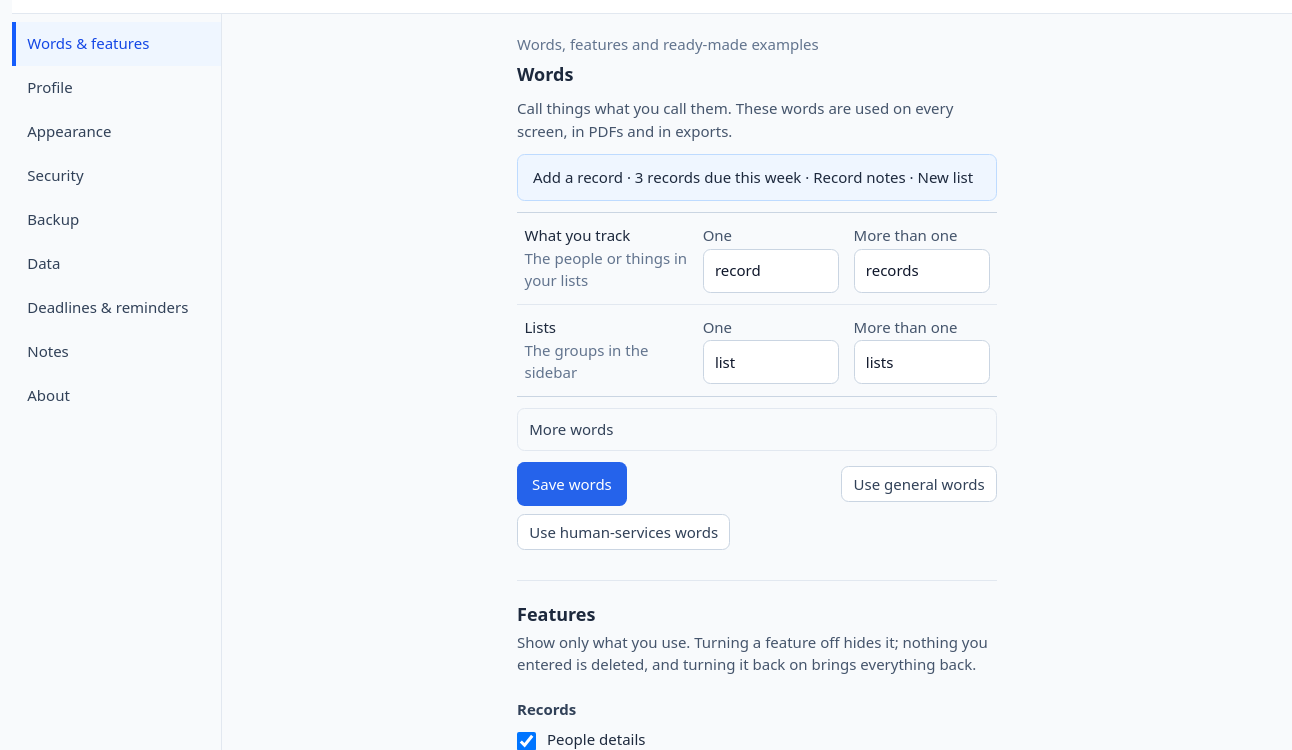
Test: SettingsView › tabs are one line each; the description is the open panel's subtitle (UX-E-03)
Expected: the text "Words, features and ready-made examples" is shown, [517, 34, 819, 54]
Click the tab "Appearance": (116, 132) [12, 110, 221, 154]
(page scrolled)
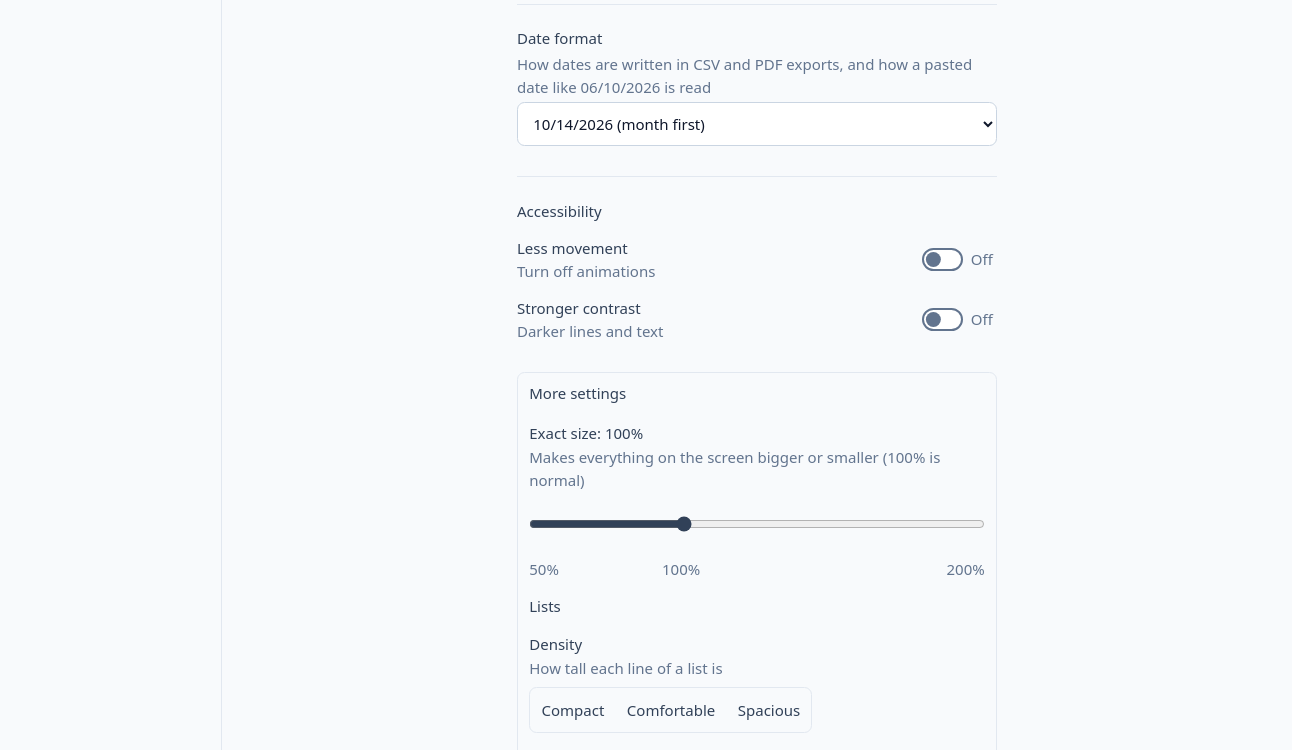
Expected: the text "Words, features and ready-made examples" is gone
